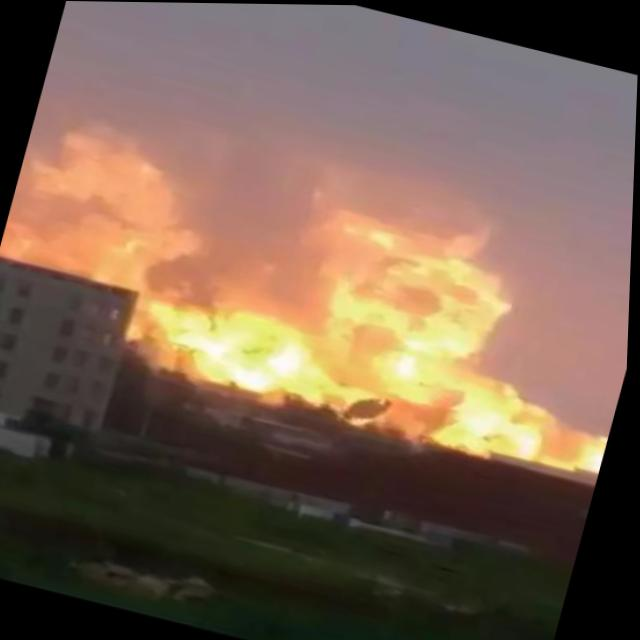fire: (113, 154, 636, 490)
